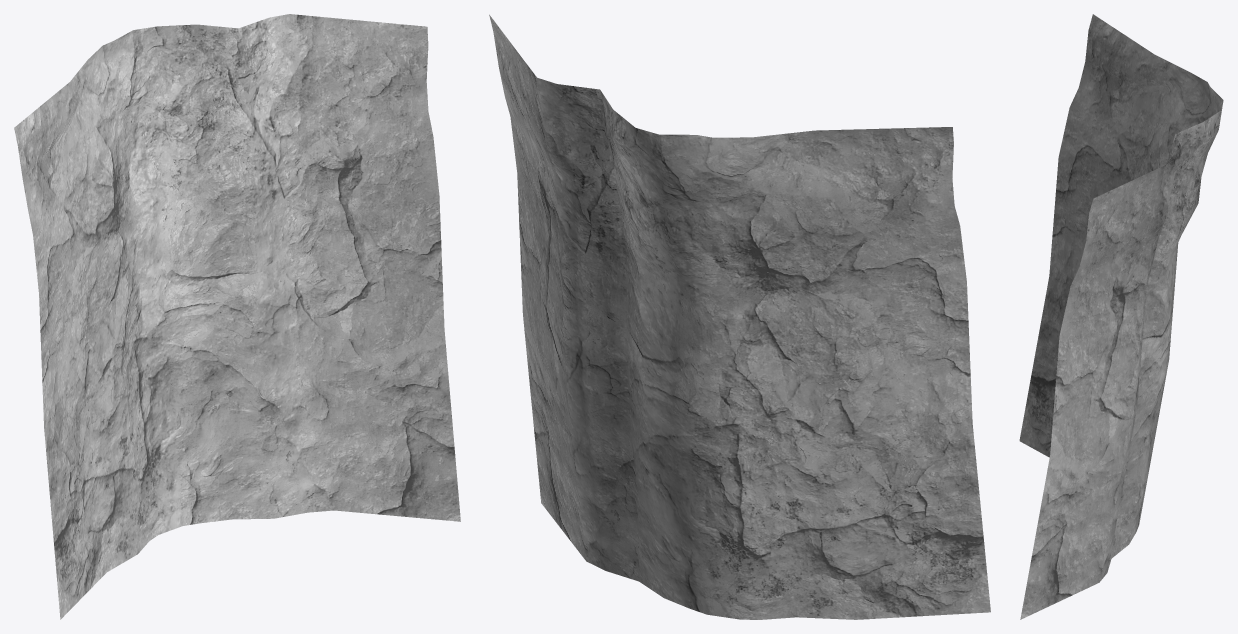
File: Cliff_Big.fbx
The picture shows the model from 3 angles, left to right: view 1: azimuth 30°, elevation 25°; view 2: azimuth 150°, elevation 25°; view 3: azimuth 270°, elevation 25°; orthographic projection. The views are drawn at different scales.
Parts seen in each view (by area): view 1: Cliff_Big; view 2: Cliff_Big; view 3: Cliff_Big.
Boxes of the visible parts, x1,y1,x2,y2 form: Cliff_Big: (14, 14, 460, 619); Cliff_Big: (489, 14, 990, 619); Cliff_Big: (1019, 14, 1223, 619).
Bounding box in the file's own units: 78706 × 84506 × 36788.
